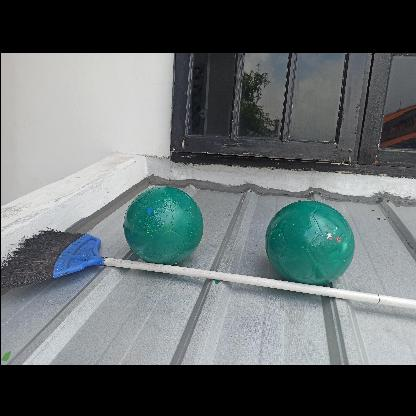green_ball: (265, 196, 355, 286), (124, 184, 202, 262)
